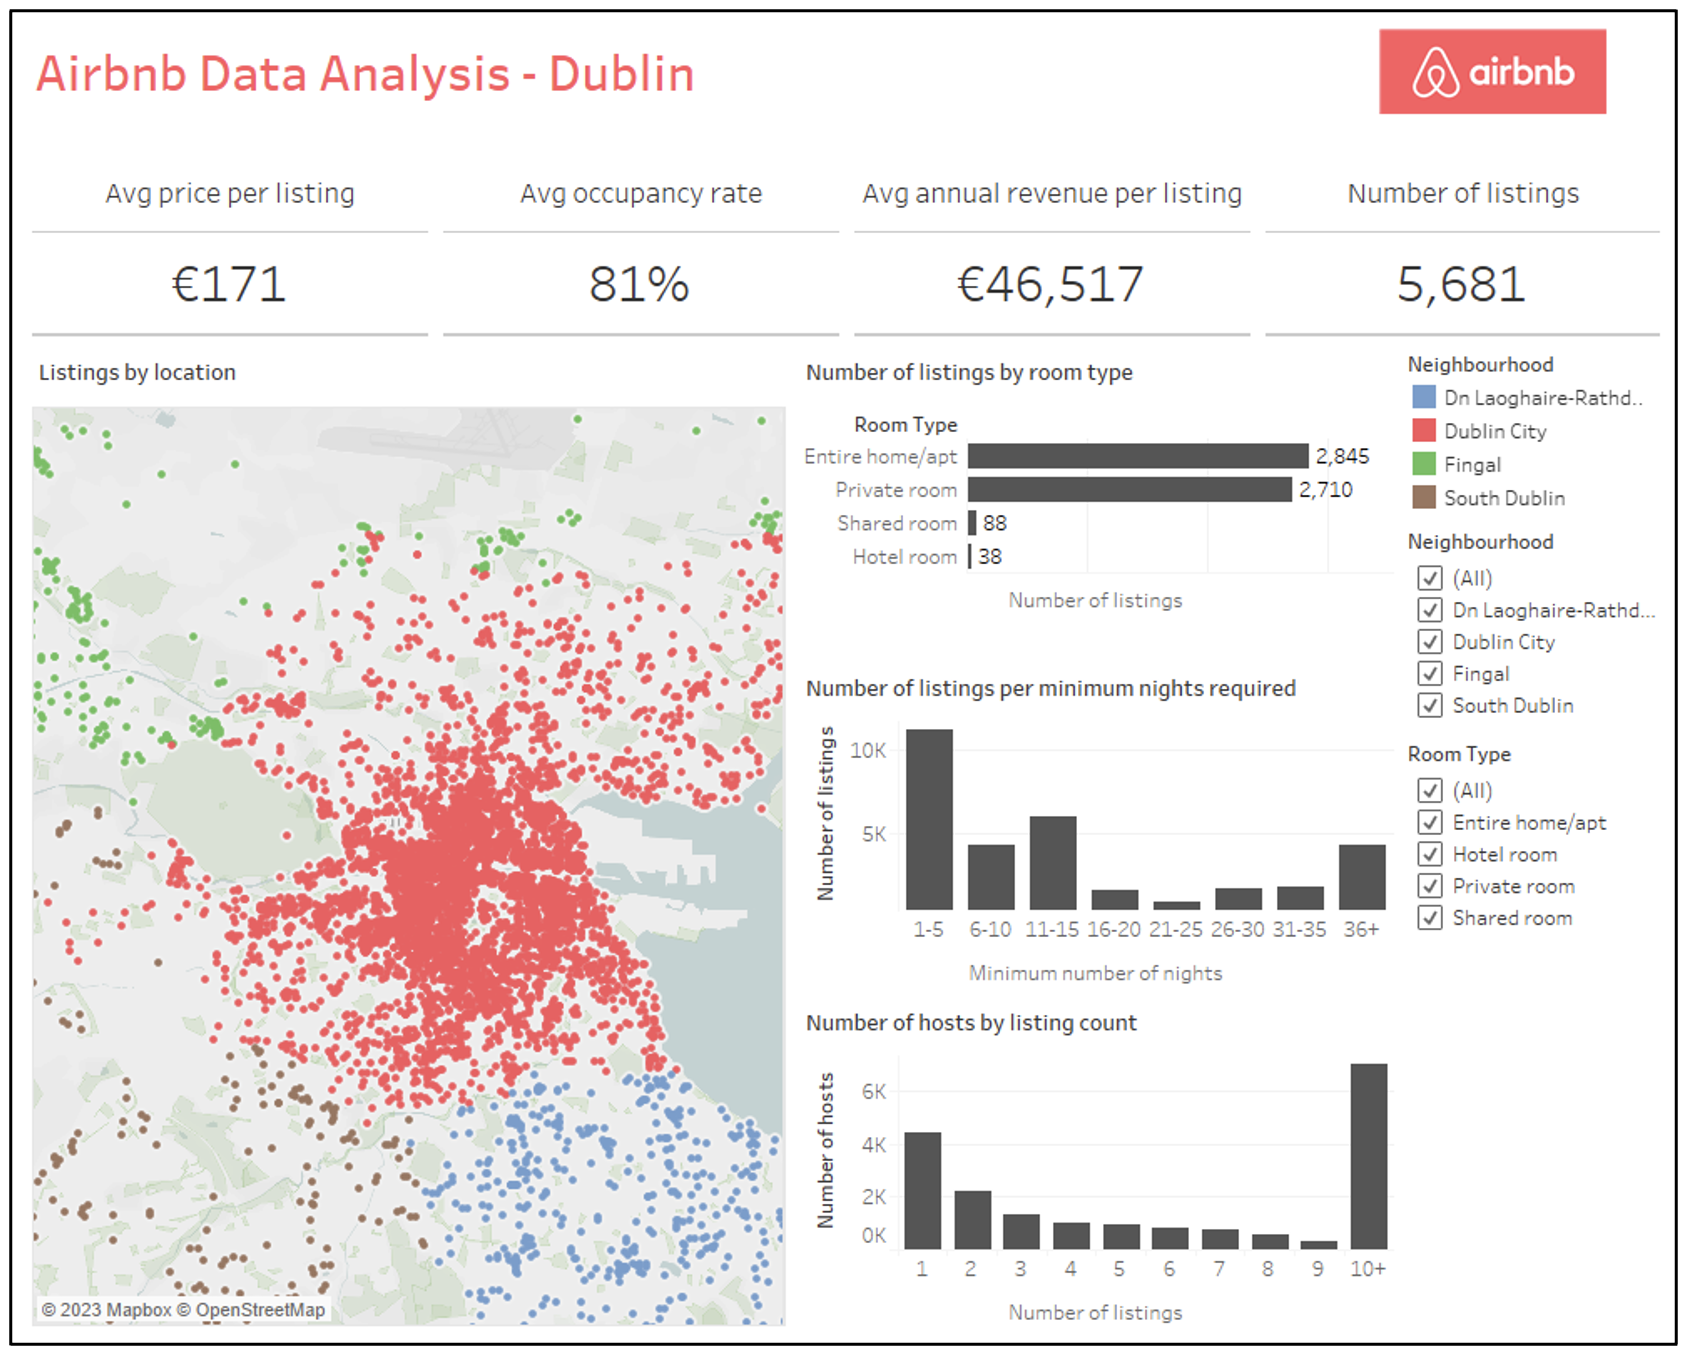

What the dashboard file says about the page in this screenshot:
{"tool":"tableau","page":{"name":"Dashboard","canvas":[1000,800],"ordinal":0},"visuals":[{"type":"text","box":[8,8,798,59]},{"type":"image","param":"C:/Users/20100428/Desktop/airbnb_logo_detail.jpeg","box":[806,8,186,59]},{"type":"worksheet","title":"Price","mark":"Automatic","box":[8,67,246,133]},{"type":"worksheet","title":"Occupancy Rate","mark":"Automatic","box":[254,67,246,133]},{"type":"worksheet","title":"Revenue per listing","mark":"Automatic","box":[500,67,246,133]},{"type":"worksheet","title":"Number of listings","mark":"Automatic","box":[746,67,246,133]},{"type":"worksheet","title":"Map","mark":"Automatic","rows":["latitude"],"cols":["longitude"],"box":[8,200,460,592]},{"type":"worksheet","title":"Room Type","mark":"Automatic","rows":["room_type"],"cols":["listing_id"],"box":[468,200,364.3,168]},{"type":"legend","title":"Map","param":"[federated.0d1v3z30l2x2ee19yr300187yhuo].[none:neighbourhood:nk]","box":[832.3,200,159.7,106]},{"type":"filter","title":"Map","param":"[federated.0d1v3z30l2x2ee19yr300187yhuo].[none:neighbourhood:nk]","box":[832.3,306,159.7,127]},{"type":"worksheet","title":"Minimum Nights Per Listing","mark":"Automatic","rows":["minimum_nights_per_listing"],"cols":["Minimum Nights Per Listing (bin)"],"box":[468,389,364.3,200]},{"type":"filter","title":"Room Type","param":"[federated.0d1v3z30l2x2ee19yr300187yhuo].[none:room_type:nk]","box":[832.3,433,159.7,127]},{"type":"worksheet","title":"Listings per Host","mark":"Automatic","rows":["listings_per_host"],"cols":["Listings Per Host (bin)"],"box":[468,589,364.3,203]}]}

Visuals, with their boxes in screenshot pixels (x1, y1, x2, y2), scaled from the page's 1000x800 canvas onto the 1690x1356 screenshot:
text: l=14, t=14, r=1362, b=114
image: l=1362, t=14, r=1676, b=114
"Price" worksheet: l=14, t=114, r=429, b=339
"Occupancy Rate" worksheet: l=429, t=114, r=845, b=339
"Revenue per listing" worksheet: l=845, t=114, r=1261, b=339
"Number of listings" worksheet: l=1261, t=114, r=1676, b=339
"Map" worksheet: l=14, t=339, r=791, b=1342
"Room Type" worksheet: l=791, t=339, r=1407, b=624
"Map" legend: l=1407, t=339, r=1676, b=519
"Map" filter: l=1407, t=519, r=1676, b=734
"Minimum Nights Per Listing" worksheet: l=791, t=659, r=1407, b=998
"Room Type" filter: l=1407, t=734, r=1676, b=949
"Listings per Host" worksheet: l=791, t=998, r=1407, b=1342
